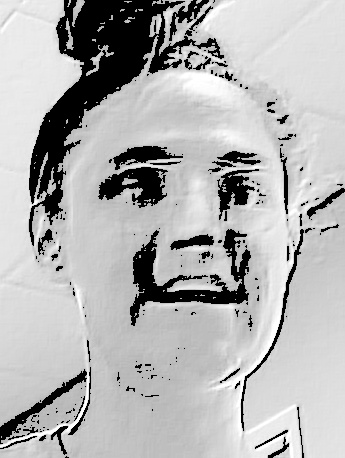nose_M_C: (168, 184, 224, 267)
